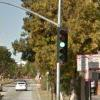Traffic light: (47, 23, 77, 68)
